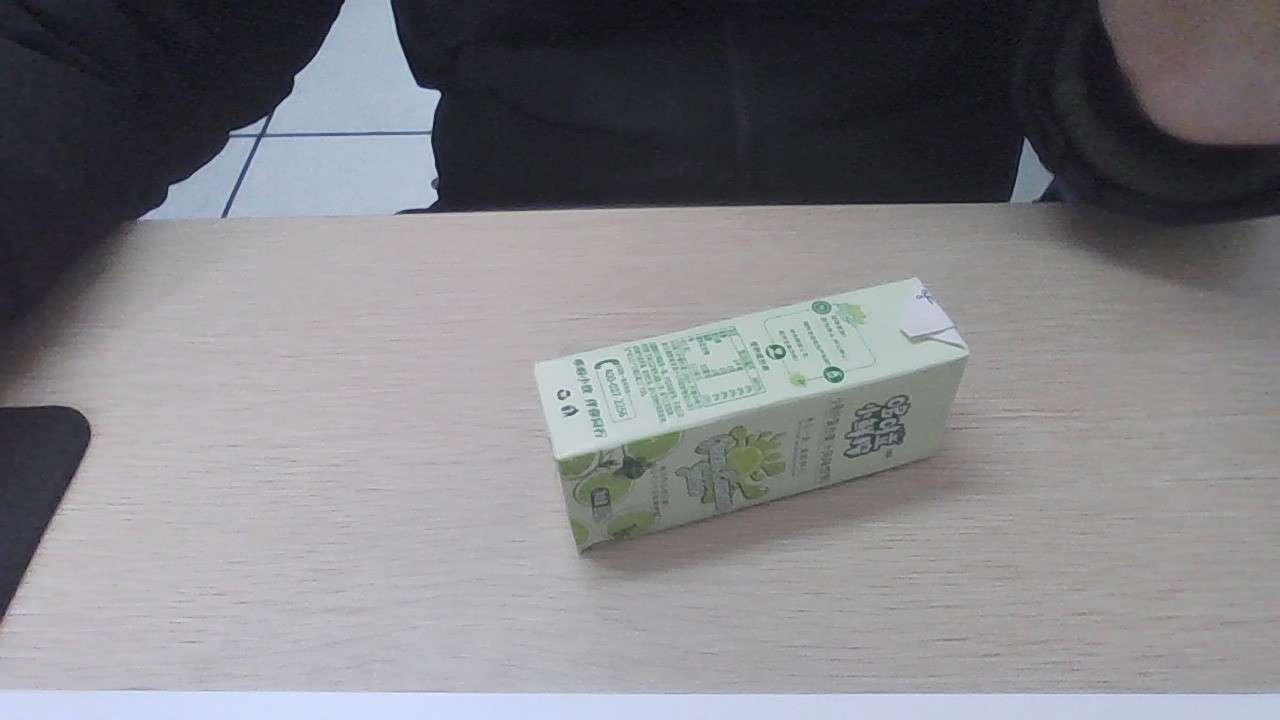CY-drink: (531, 282, 953, 540)
